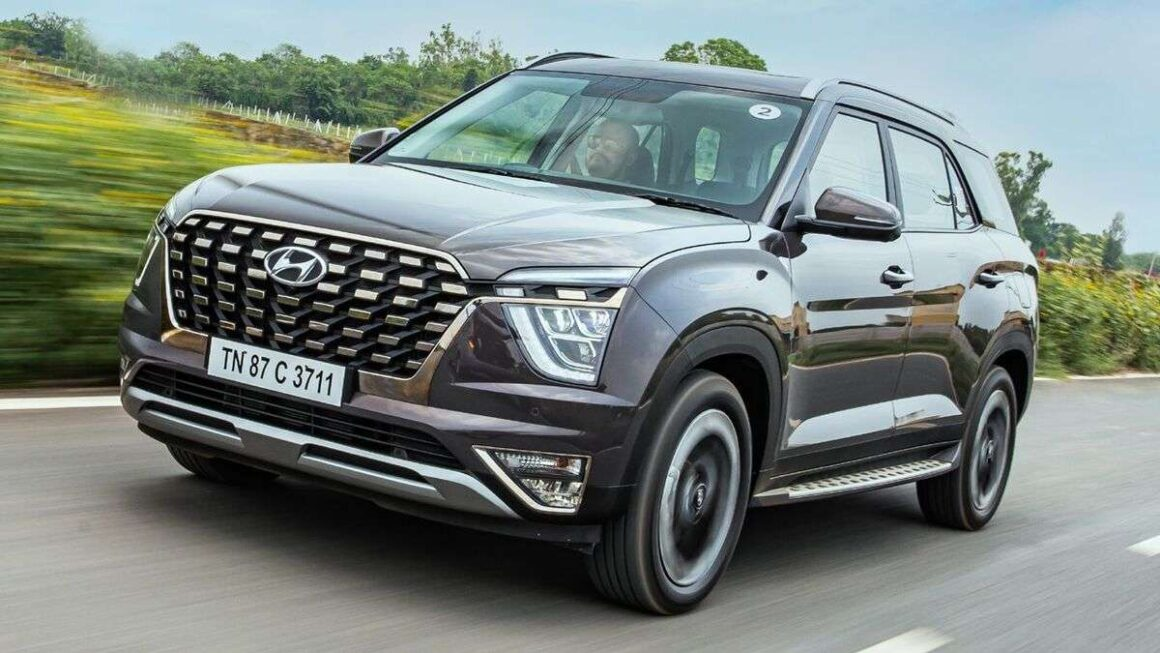car: (103, 48, 1086, 621)
numberplate: (206, 336, 367, 417)
